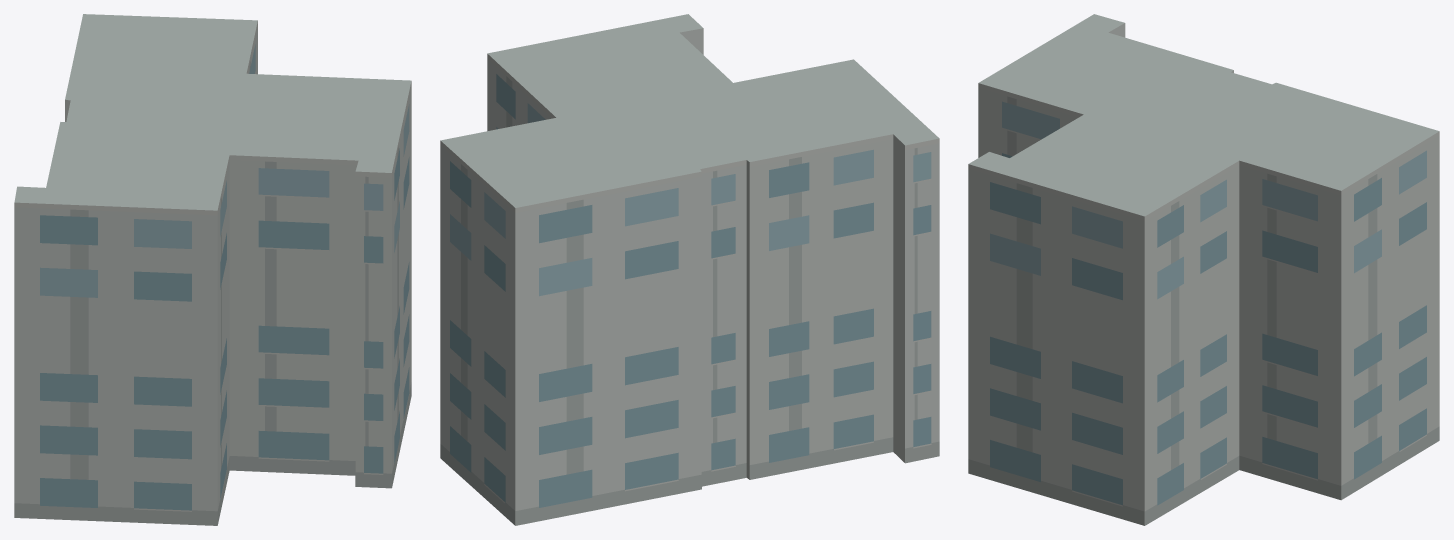
File: survey-upis-32557280.glb
3 renders of one model, left to right at view 1: azimuth 30°, elevation 25°; view 2: azimuth 150°, elevation 25°; view 3: azimuth 270°, elevation 25°, orthographic. The views are drawn at different scales.
Visible parts, largest first — view 1: survey-upis-32557280.tmp; view 2: survey-upis-32557280.tmp; view 3: survey-upis-32557280.tmp.
Boxes of the visible parts, bbox=[...] form: survey-upis-32557280.tmp: bbox=[14, 14, 411, 525]; survey-upis-32557280.tmp: bbox=[440, 14, 939, 525]; survey-upis-32557280.tmp: bbox=[968, 14, 1439, 525].
Size of the model in its own units: 22.47 by 16 by 22.1.
